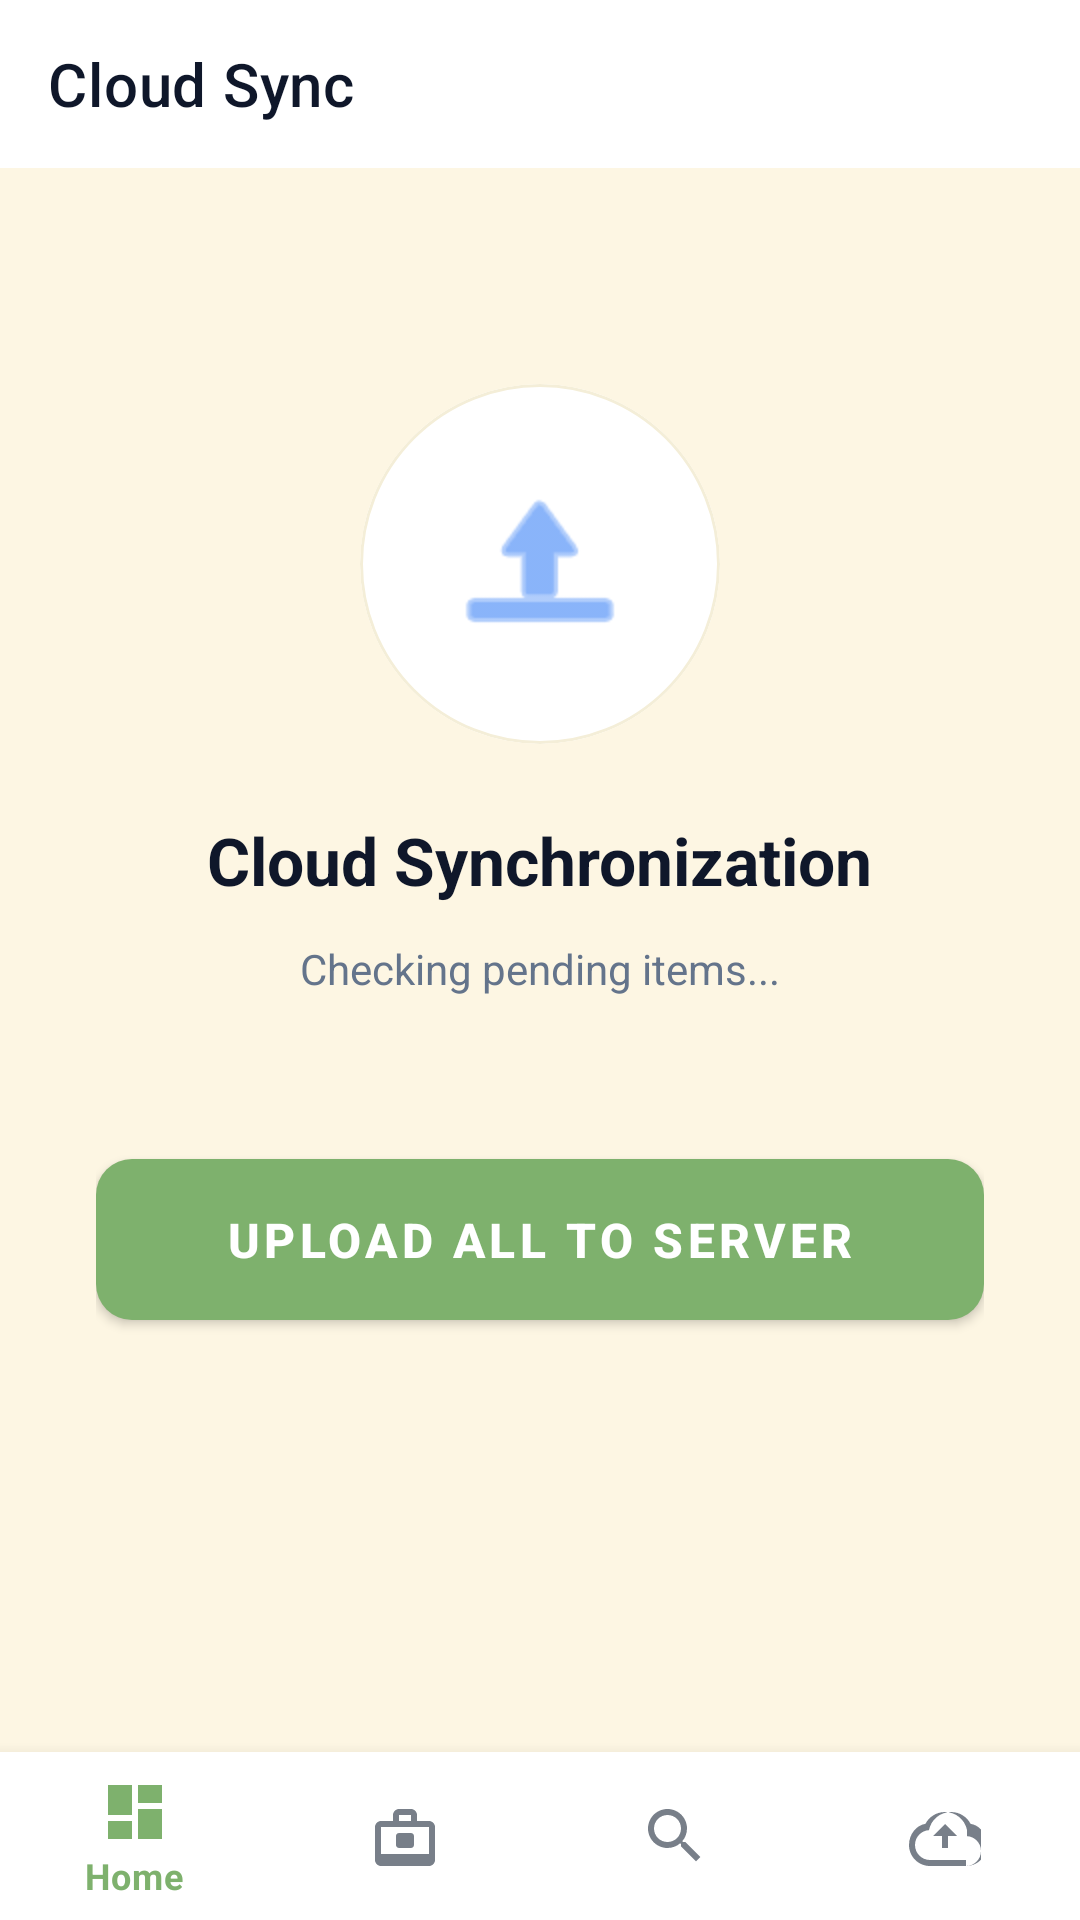

Icons on this 1080px×1920px Android screen, each with the point to tap as (x,y):
upload: (540,561)
